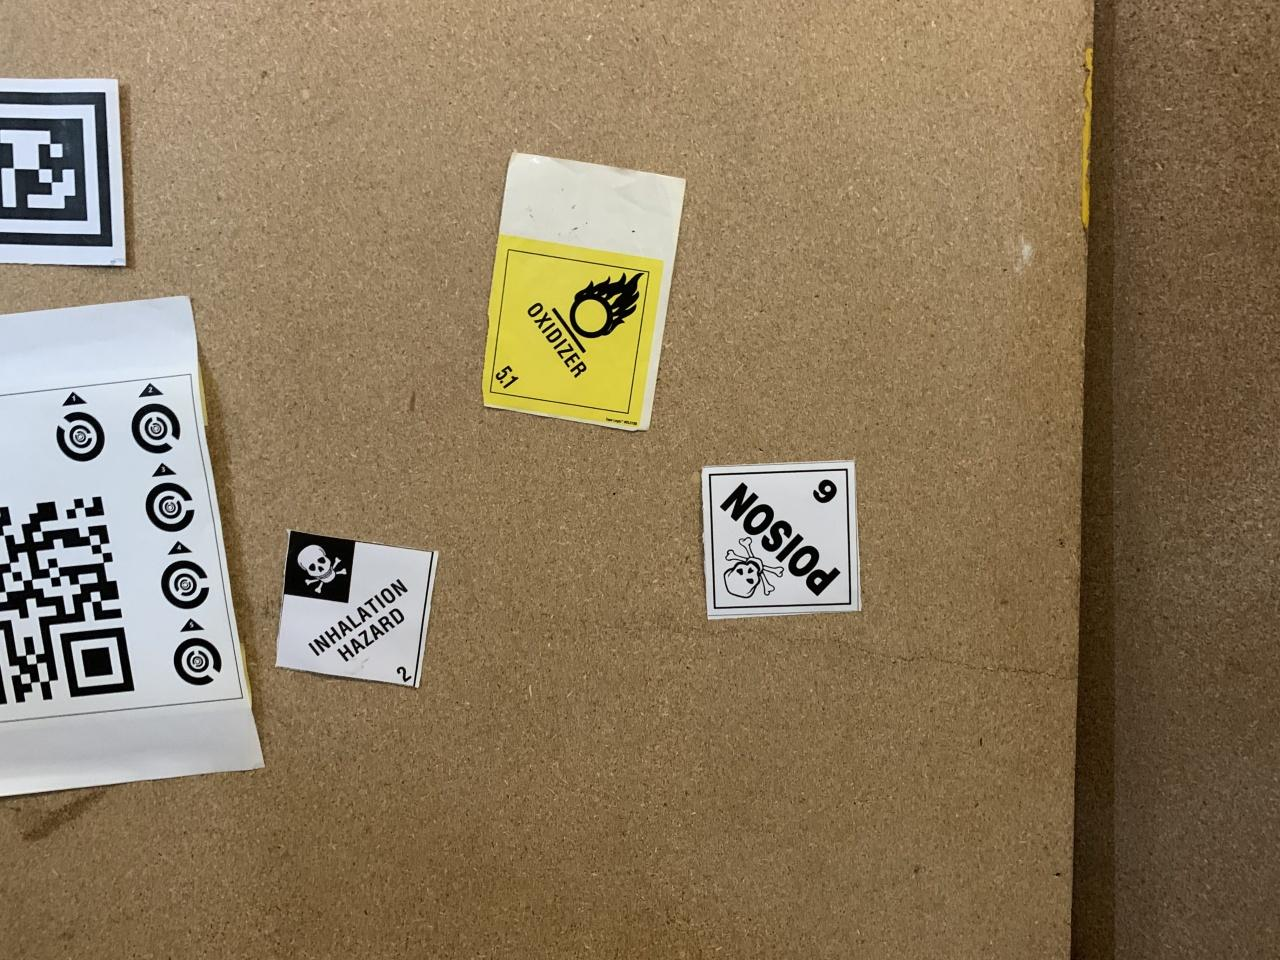oxidizer: (476, 233, 665, 436)
poison: (263, 530, 444, 690), (703, 460, 864, 619)
